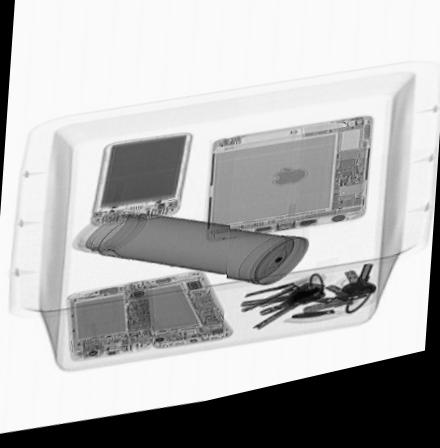Powerbank: (86, 140, 192, 232)
